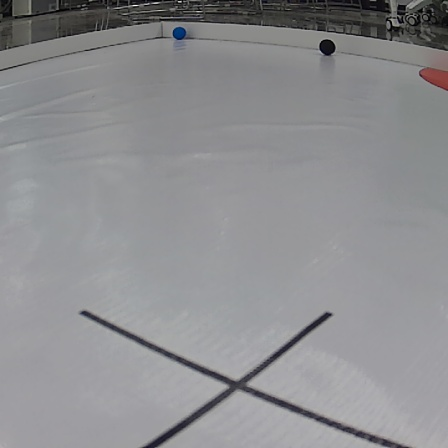black: (317, 36, 337, 56)
blue: (169, 26, 188, 40)
red_base: (419, 60, 448, 98)
